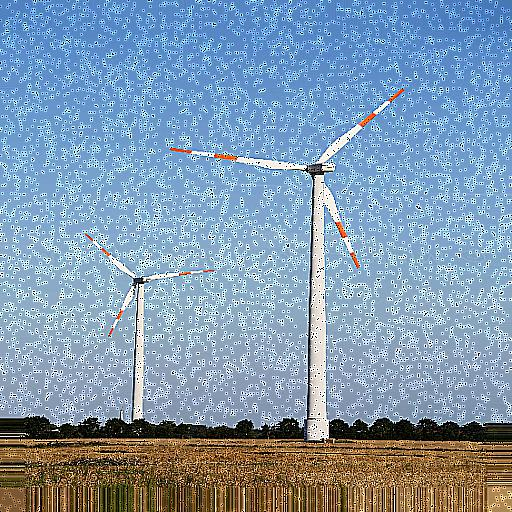wind turbine: (167, 89, 407, 442), (84, 231, 217, 429)
